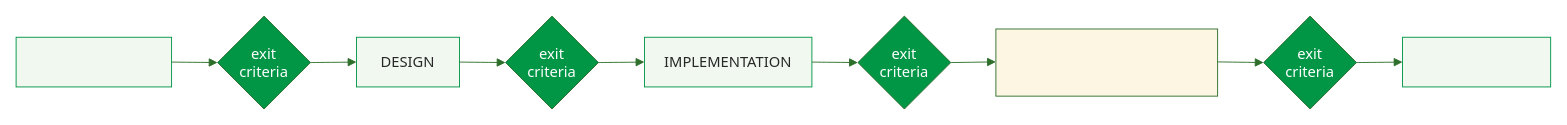
Some shapes in this 1567 by 125 pixel diagram are drawn without their labels. The shapes that lost their labels are listed below. From the top down, each one's centre as x and y in pixels, then its label:
At point (93, 61): "REQUIREMENTS".
At point (1106, 62): "TESTING the first honest feedback".
At point (1476, 61): "MAINTENANCE".
